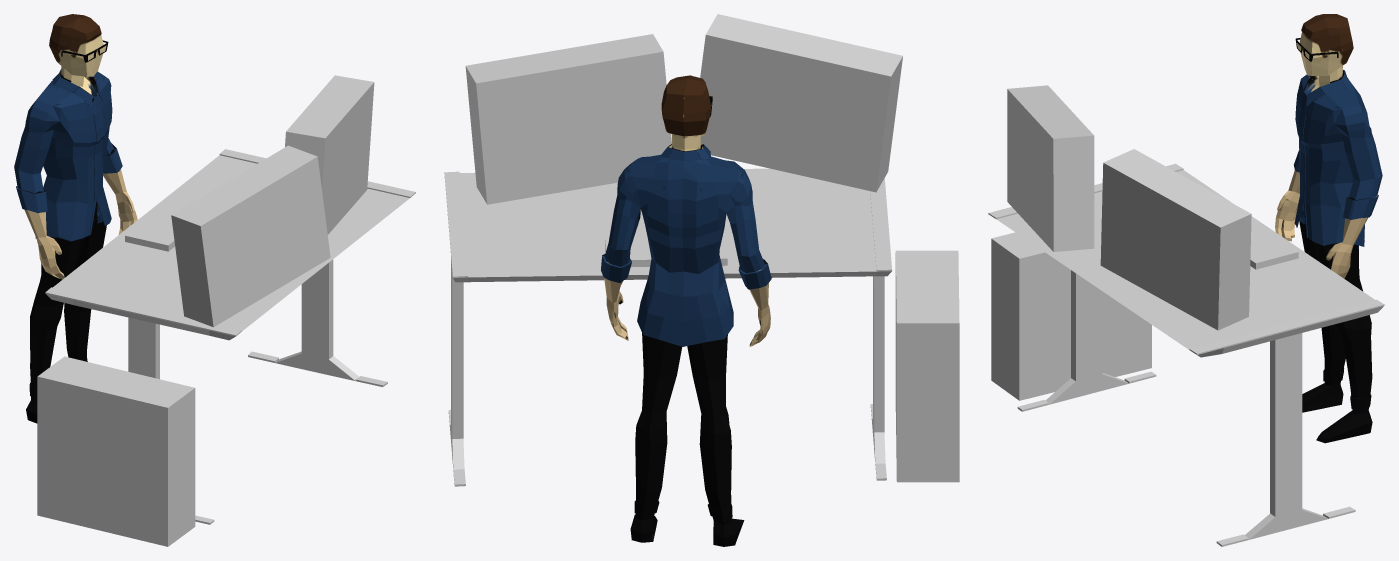
The model's file is Hex_PC_table_10.glb.
3 views of the same model, side by side, from view 1: azimuth 30°, elevation 25°; view 2: azimuth 150°, elevation 25°; view 3: azimuth 270°, elevation 25° (orthographic). The views are drawn at different scales.
Parts seen in each view (by area): view 1: Cube.001, Circle, Cube, Cube.004, Cube.003, Cube.002; view 2: Circle, Cube, Cube.004, Cube.003, Cube.001, Cube.002; view 3: Cube, Circle, Cube.003, Cube.001, Cube.004, Cube.002.
Boxes of the visible parts, x1,y1,x2,y2 form: Cube.001: (37, 356, 195, 546); Circle: (14, 14, 137, 423); Cube: (45, 149, 415, 524); Cube.004: (171, 145, 330, 327); Cube.003: (285, 75, 374, 234); Cube.002: (125, 196, 194, 251); Circle: (601, 75, 771, 546); Cube: (444, 168, 892, 486); Cube.004: (700, 14, 902, 192); Cube.003: (465, 34, 671, 204); Cube.001: (895, 250, 959, 482); Cube.002: (605, 234, 727, 266); Cube: (988, 163, 1384, 546); Circle: (1275, 14, 1382, 443); Cube.003: (1100, 149, 1251, 330); Cube.001: (991, 232, 1151, 400); Cube.004: (1007, 85, 1094, 251); Cube.002: (1250, 220, 1298, 269).
Size of the model in its own units: 4.4 by 4.02 by 3.57.
Materials: 1 (1 with a texture image).
